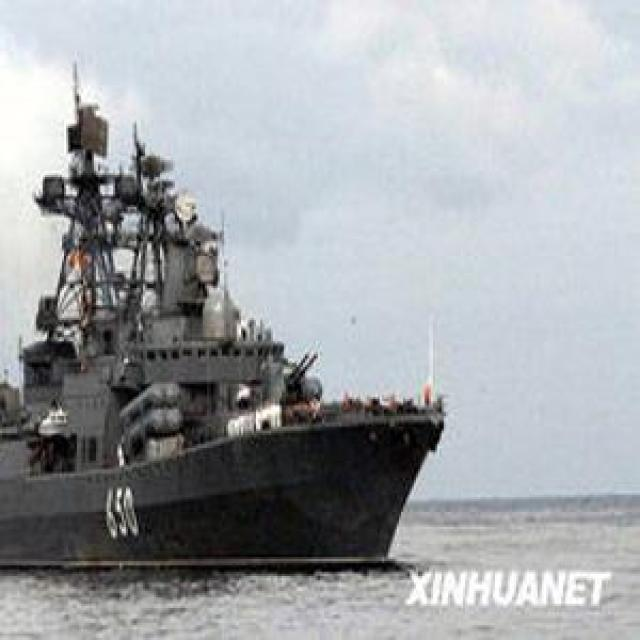navalvessels: (0, 51, 458, 558)
